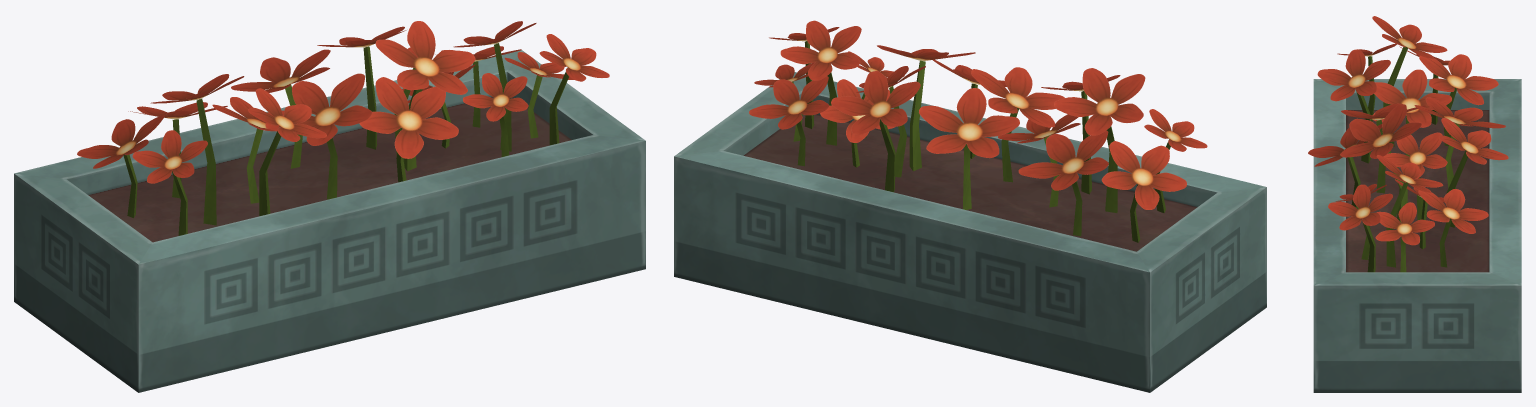
File: flowerPot2.fbx
The picture shows the model from 3 angles, left to right: view 1: azimuth 30°, elevation 25°; view 2: azimuth 150°, elevation 25°; view 3: azimuth 270°, elevation 25°; orthographic projection. The views are drawn at different scales.
Parts seen in each view (by area): view 1: polySurface2260; view 2: polySurface2260; view 3: polySurface2260.
Part boxes in pixels (x1,y1,x2,y2): polySurface2260: [14, 21, 645, 392]; polySurface2260: [674, 20, 1266, 392]; polySurface2260: [1308, 16, 1521, 392].
Bounding box in the file's own units: 1.67 × 0.8015 × 0.7745.
